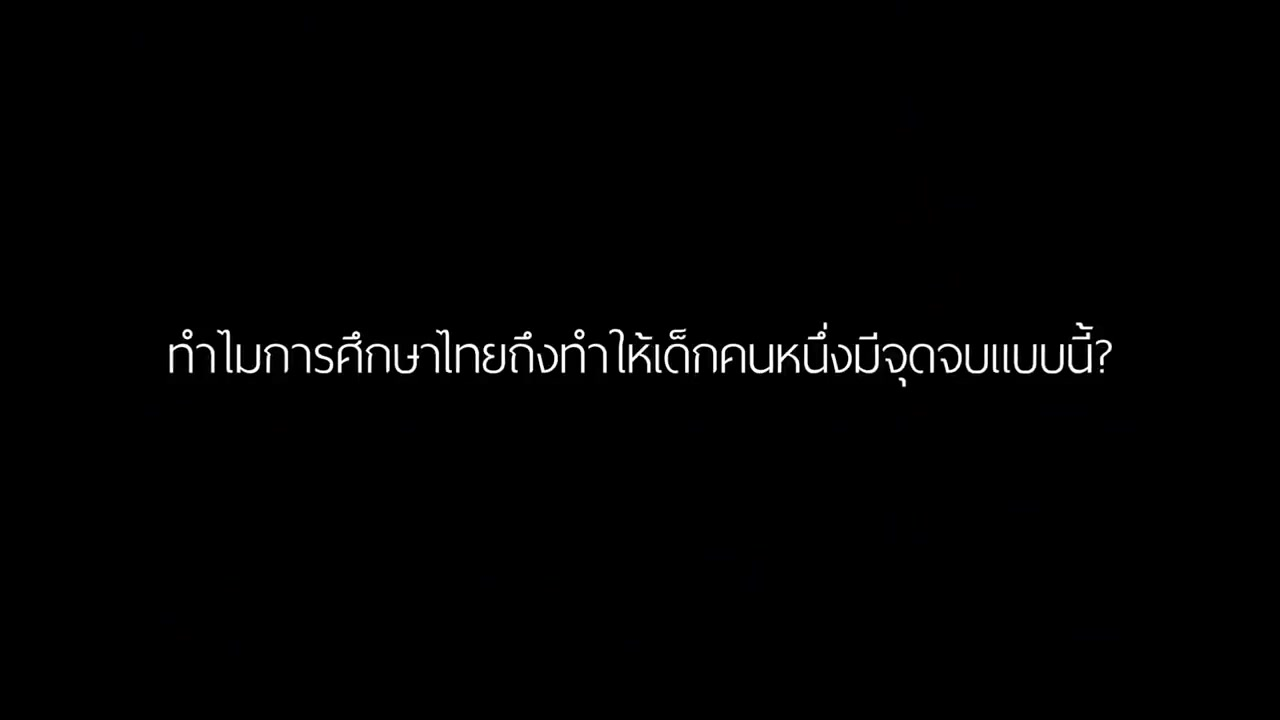text-label: (163, 319, 1115, 393)
